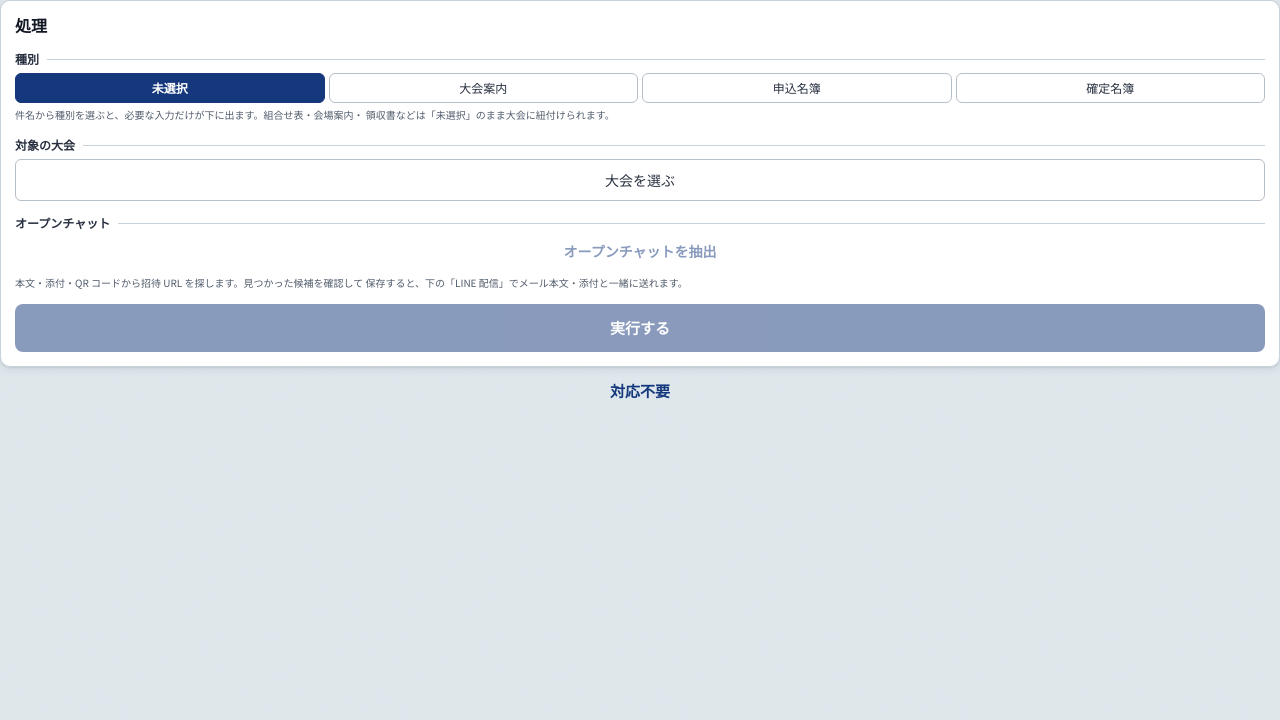
Test: MailProcessForm — 会計へ振込連絡 › プレビューが送信経路と同じ文面を出す
What coordinates should you click on to do the following:
click the button "確定名簿"
I would click on:
 (1110, 88)
Its box is [956, 73, 1265, 103].
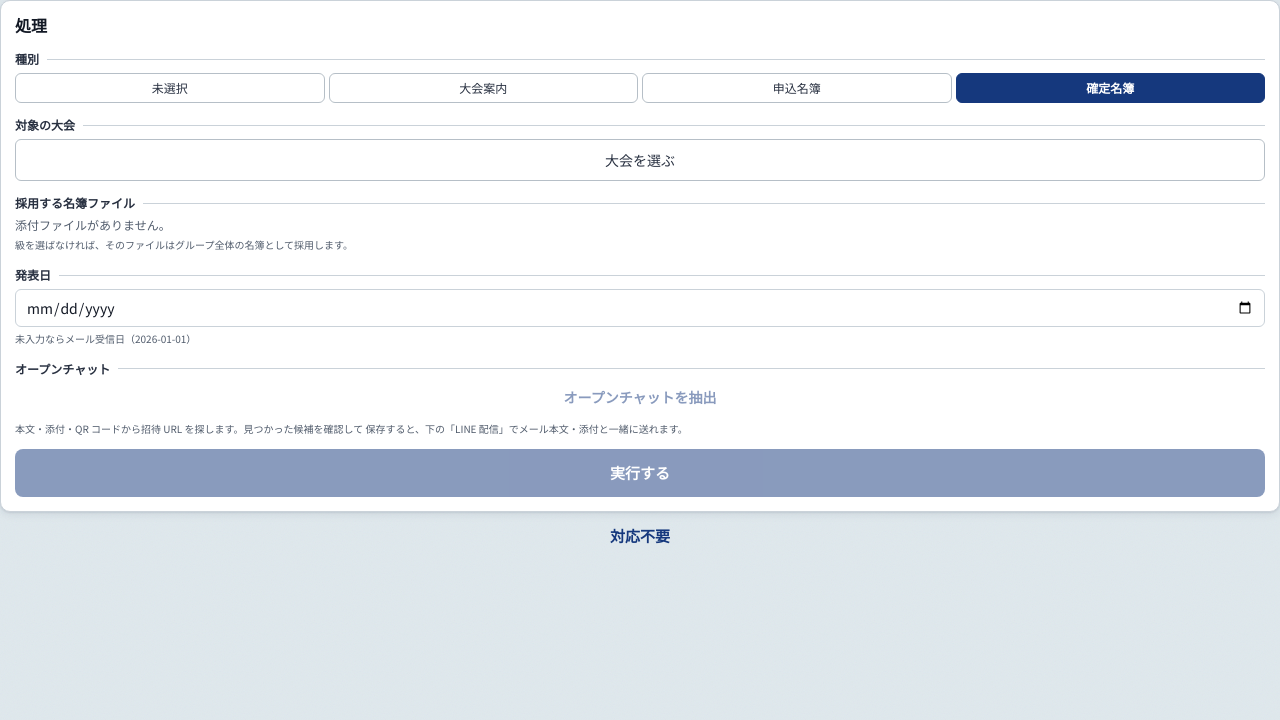
What coordinates should you click on to do the following:
click the button "大会を選ぶ"
I would click on:
 (640, 160)
Its box is [15, 139, 1265, 181].
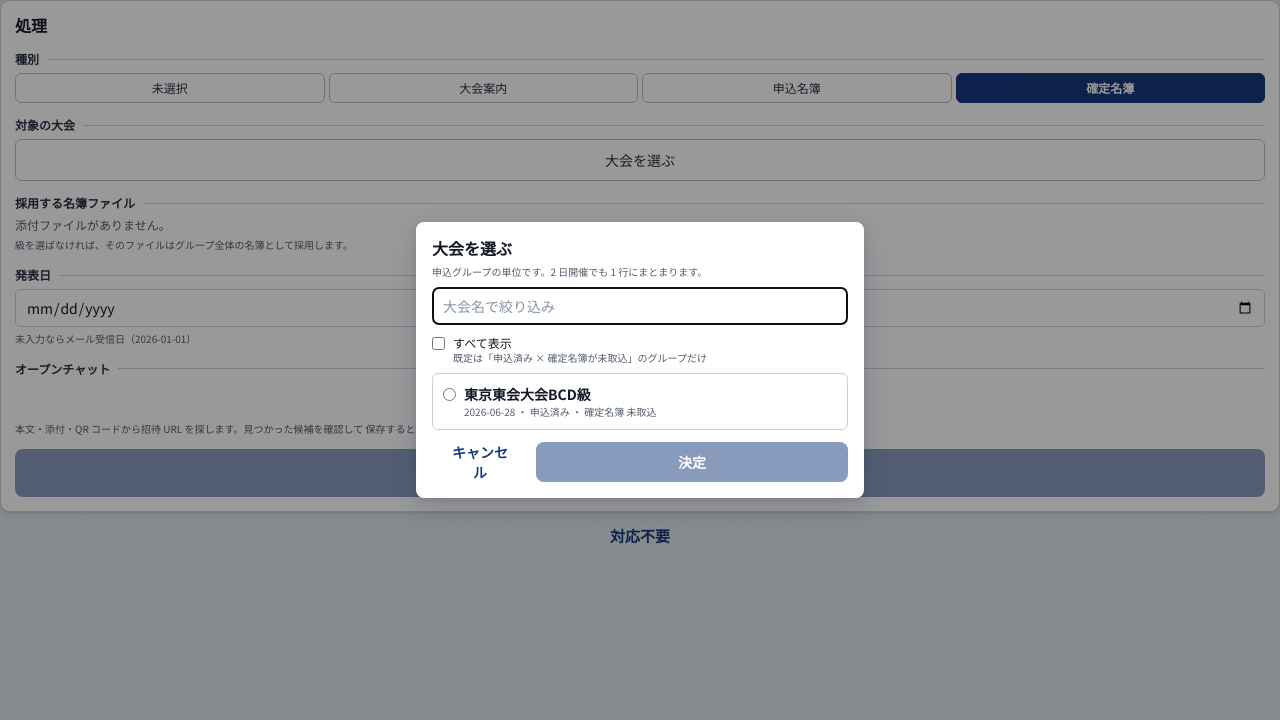
What coordinates should you click on to do the following:
click the radio button
I would click on:
 (450, 394)
Its box is [443, 388, 456, 401].
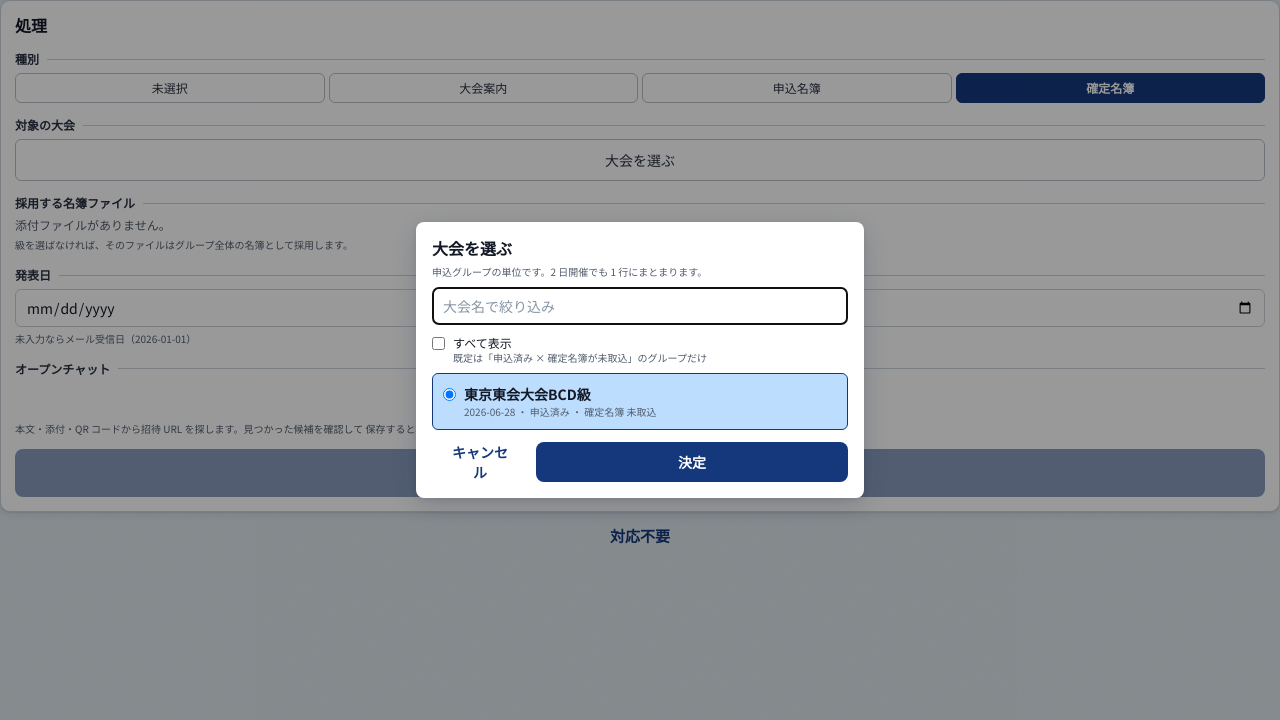
What coordinates should you click on to do the following:
click the button "決定"
I would click on:
 (692, 462)
Its box is [536, 442, 848, 482].
(page scrolled)
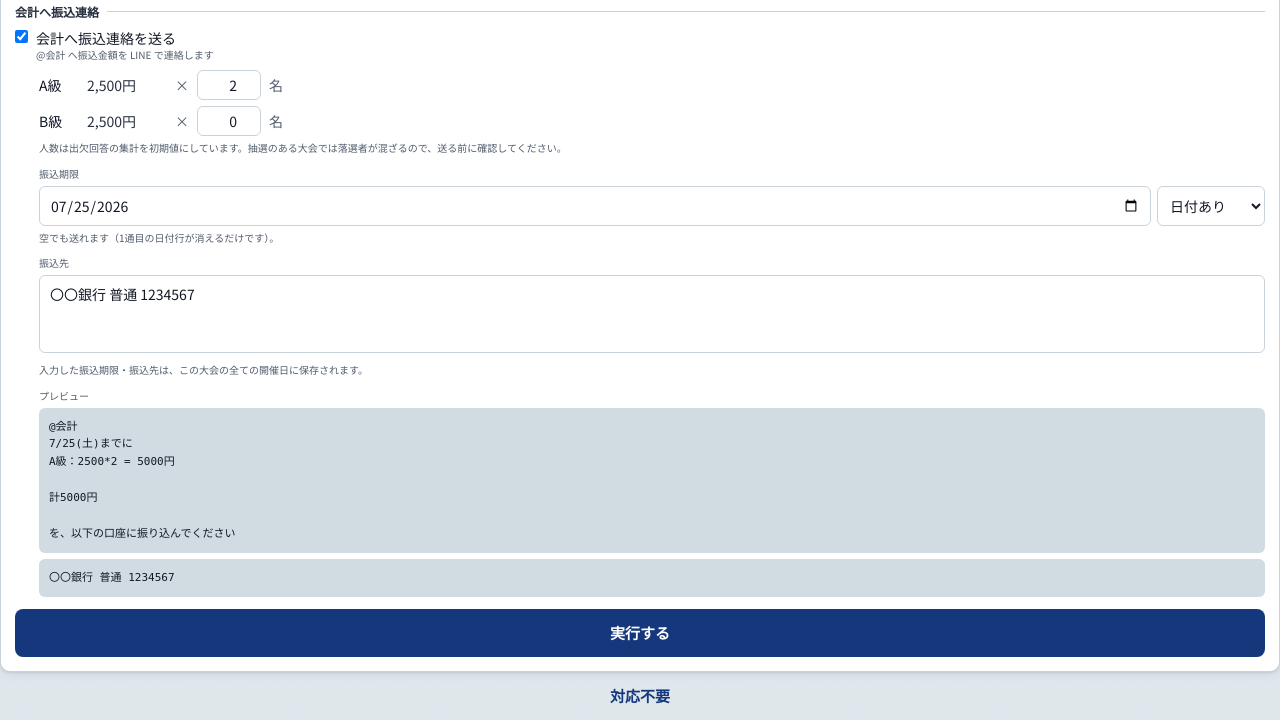
expect the number field named "A級の人数" is shown: met, box [197, 70, 261, 100]
expect the text "@会計 7/25(土)までに A級：2500*2 = 5000円 計5000円 を、以下の口座に振り込んでください" is shown: met, box [39, 408, 1265, 553]
